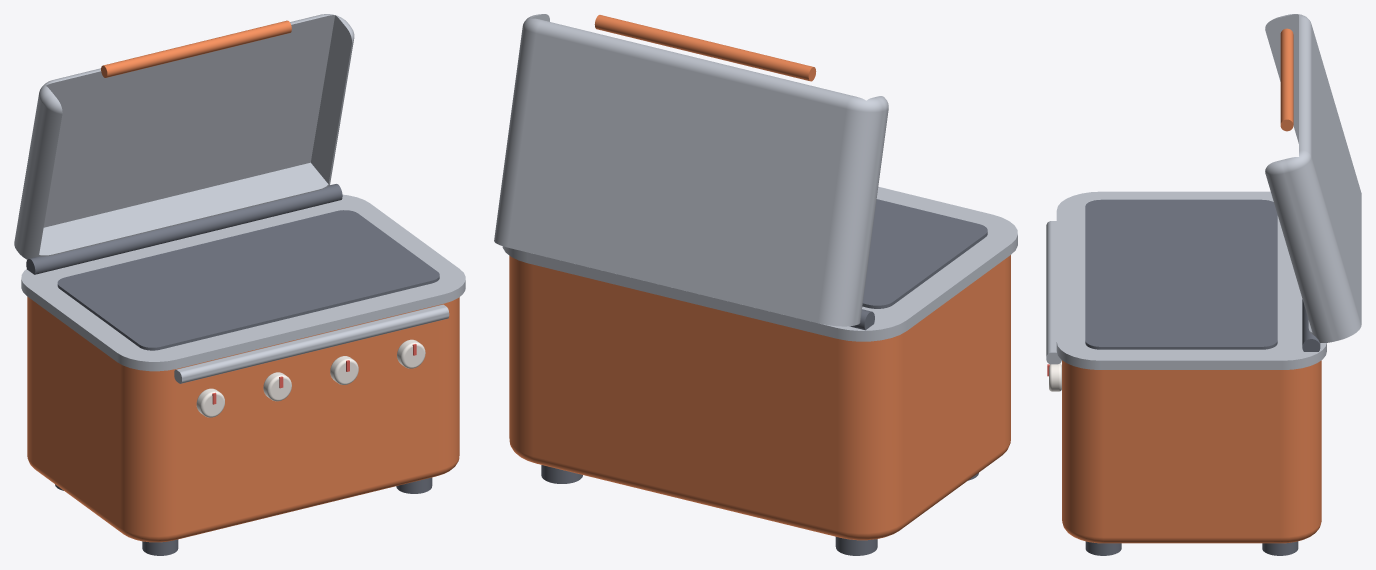
Rendered from BurgerGrill.glb.
3 views of the same model, side by side, from view 1: azimuth 30°, elevation 25°; view 2: azimuth 150°, elevation 25°; view 3: azimuth 270°, elevation 25° (orthographic). The views are drawn at different scales.
Parts seen in each view (by area): view 1: metalLight (×3), grillBody (×2), metalDark (×2), awningWhite (×4); view 2: grillBody (×2), metalLight (×2), metalDark (×2); view 3: grillBody (×2), metalLight (×3), metalDark (×4).
Part boxes in pixels (box(x1,y1,x2,y2)): metalLight (×3): box(14, 14, 465, 383); grillBody (×2): box(27, 20, 459, 542); metalDark (×2): box(26, 184, 439, 350); awningWhite (×4): box(196, 339, 425, 417); grillBody (×2): box(509, 15, 1010, 540); metalLight (×2): box(494, 14, 1017, 341); metalDark (×2): box(835, 199, 987, 555); grillBody (×2): box(1062, 28, 1321, 543); metalLight (×3): box(1046, 14, 1361, 369); metalDark (×4): box(1085, 199, 1320, 555).
Bounding box in the file's own units: 1.54 × 1.75 × 1.21.
